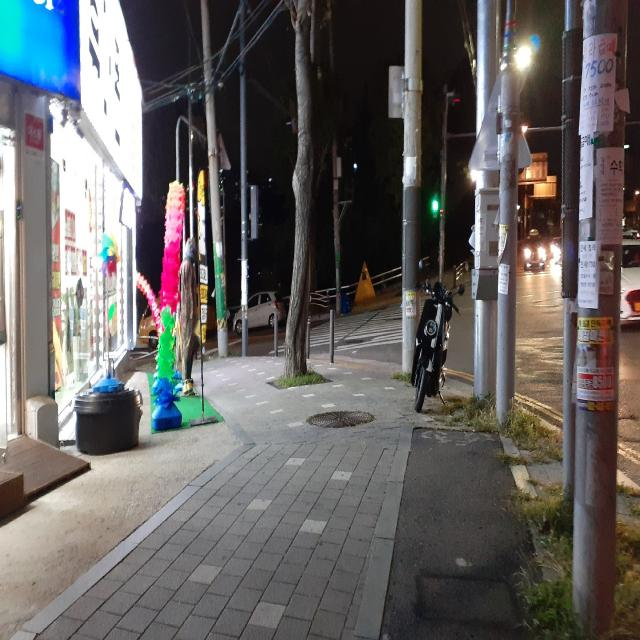초록불: (430, 192, 440, 230)
횡단보도: (267, 295, 434, 355)
